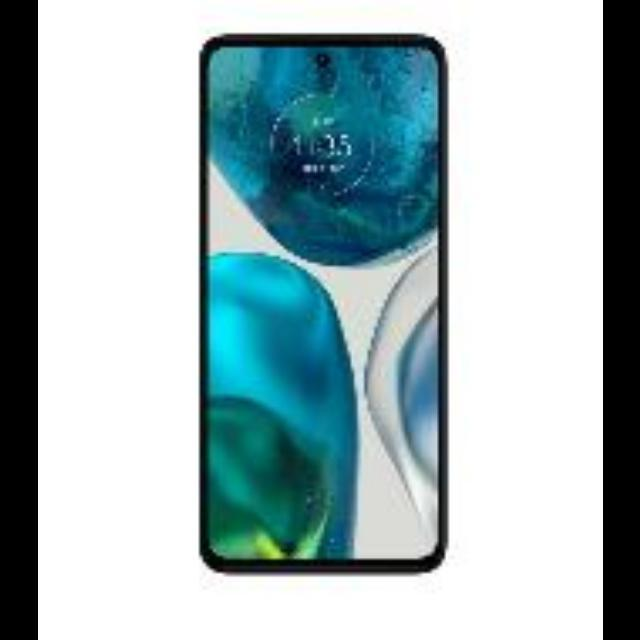phone: (192, 28, 454, 582)
